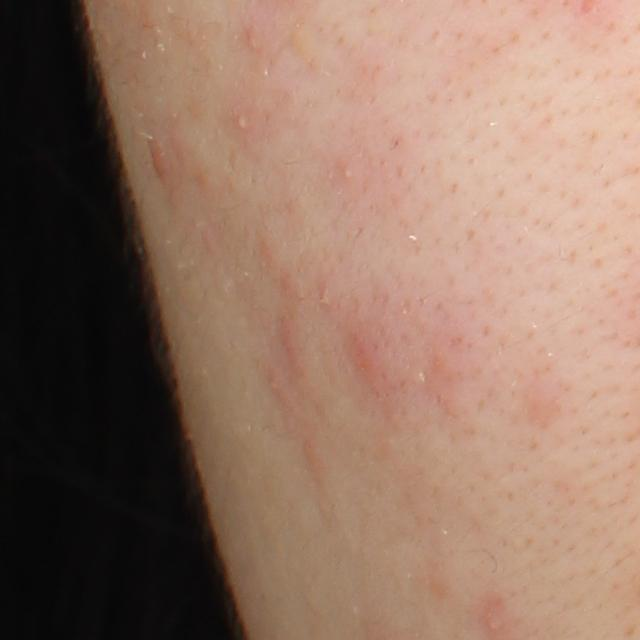comedo: (342, 168, 354, 179)
papule: (343, 333, 387, 385), (147, 132, 170, 180), (248, 30, 261, 52)
